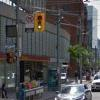Traffic light: (26, 5, 51, 41)
